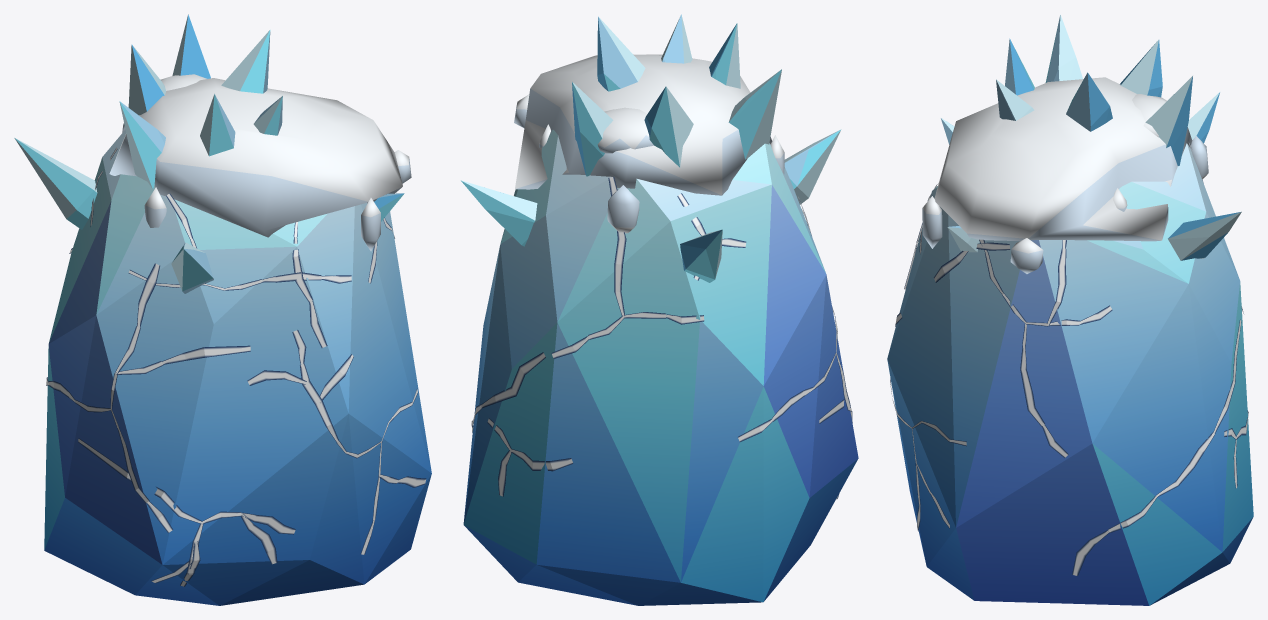
File: IceBlockA.fbx
3 views of the same model, side by side, from view 1: azimuth 30°, elevation 25°; view 2: azimuth 150°, elevation 25°; view 3: azimuth 270°, elevation 25° (orthographic). The views are drawn at different scales.
Parts seen in each view (by area): view 1: IceBlockAShell, IceBlockASnow, IceBlockACrystals, IceBlockACrack4, IceBlockACrack3, IceBlockACrack2; view 2: IceBlockAShell, IceBlockASnow, IceBlockACrystals, IceBlockACrack4, IceBlockACrack3; view 3: IceBlockAShell, IceBlockASnow, IceBlockACrystals, IceBlockACrack4, IceBlockACrack3, IceBlockACrack2.
Part boxes in pixels (x1,y1,x2,y2): IceBlockAShell: [44, 129, 431, 605]; IceBlockASnow: [109, 74, 411, 251]; IceBlockACrystals: [14, 14, 404, 293]; IceBlockACrack4: [46, 148, 426, 583]; IceBlockACrack3: [49, 193, 418, 586]; IceBlockACrack2: [75, 222, 412, 475]; IceBlockAShell: [463, 129, 858, 605]; IceBlockASnow: [514, 54, 784, 233]; IceBlockACrystals: [461, 14, 841, 282]; IceBlockACrack4: [481, 177, 852, 499]; IceBlockACrack3: [471, 231, 852, 432]; IceBlockAShell: [887, 143, 1253, 605]; IceBlockASnow: [922, 77, 1208, 273]; IceBlockACrystals: [941, 14, 1241, 260]; IceBlockACrack4: [895, 142, 1248, 575]; IceBlockACrack3: [890, 179, 1214, 532]; IceBlockACrack2: [890, 183, 1047, 463].
Size of the model in its own units: 108 by 164 by 111.
